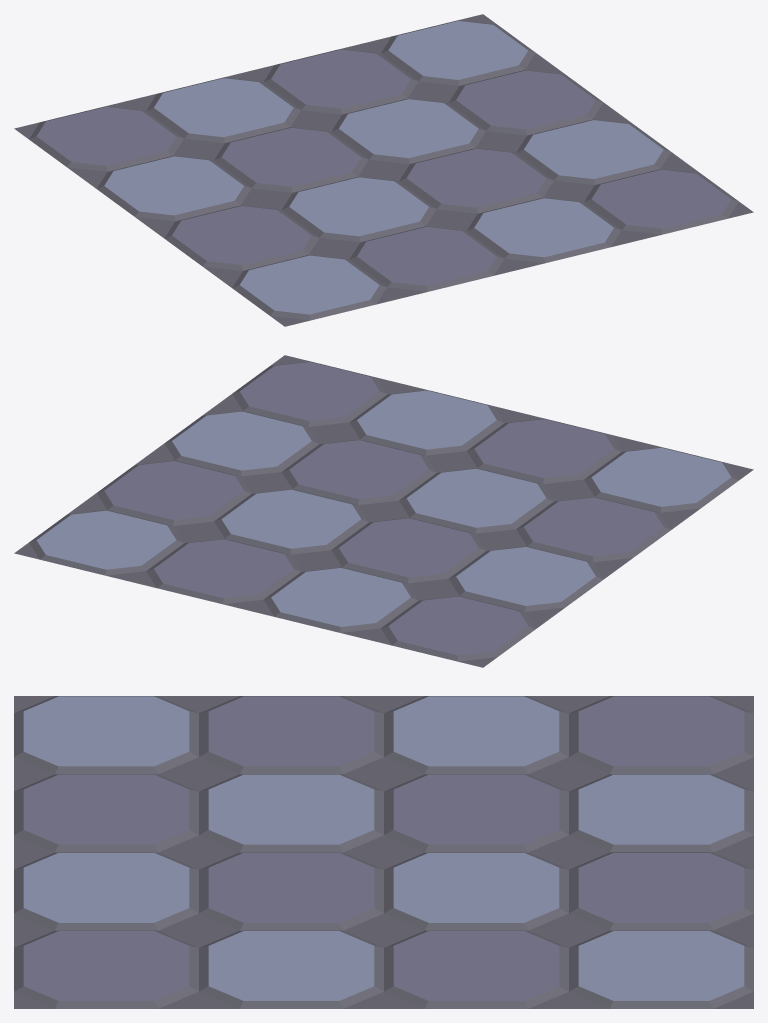
File: floor2_small.fbx
The picture shows the model from 3 angles, top to bottom: view 1: azimuth 30°, elevation 25°; view 2: azimuth 150°, elevation 25°; view 3: azimuth 270°, elevation 25°; orthographic projection. The views are drawn at different scales.
Parts seen in each view (by area): view 1: floor2_small; view 2: floor2_small; view 3: floor2_small.
Part boxes in pixels (x1,y1,x2,y2): floor2_small: (14,14,753,326); floor2_small: (14,355,753,667); floor2_small: (14,696,753,1008).
Size of the model in its own units: 300 by 1.68 by 300.
